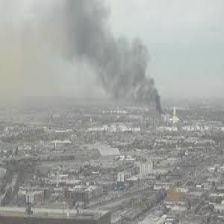smoke: (53, 10, 165, 115)
